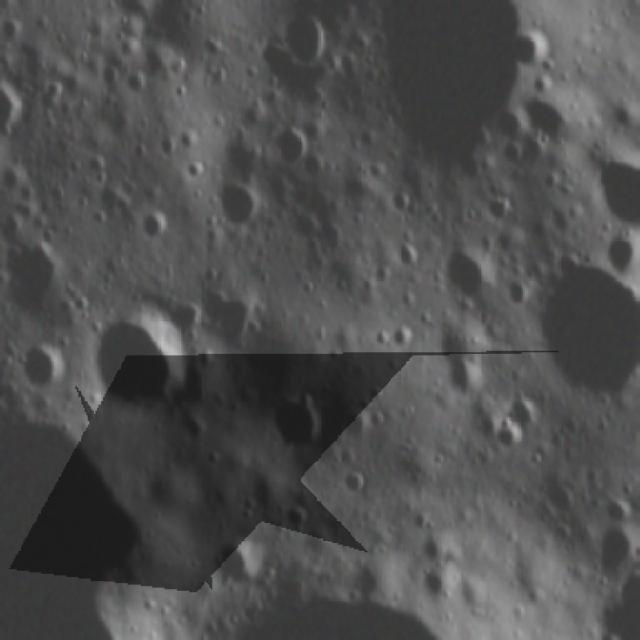crater: (532, 251, 640, 411), (82, 295, 201, 427), (4, 237, 79, 321), (267, 384, 338, 464), (194, 523, 272, 591), (433, 240, 501, 308), (518, 86, 584, 152), (268, 7, 339, 67), (590, 148, 639, 227), (20, 338, 72, 400), (216, 177, 270, 234), (587, 520, 640, 577), (267, 119, 318, 170), (513, 24, 558, 70), (600, 229, 638, 277), (494, 408, 532, 455), (340, 404, 378, 444), (542, 475, 576, 516), (140, 204, 174, 244), (342, 463, 378, 500), (182, 157, 210, 186)
